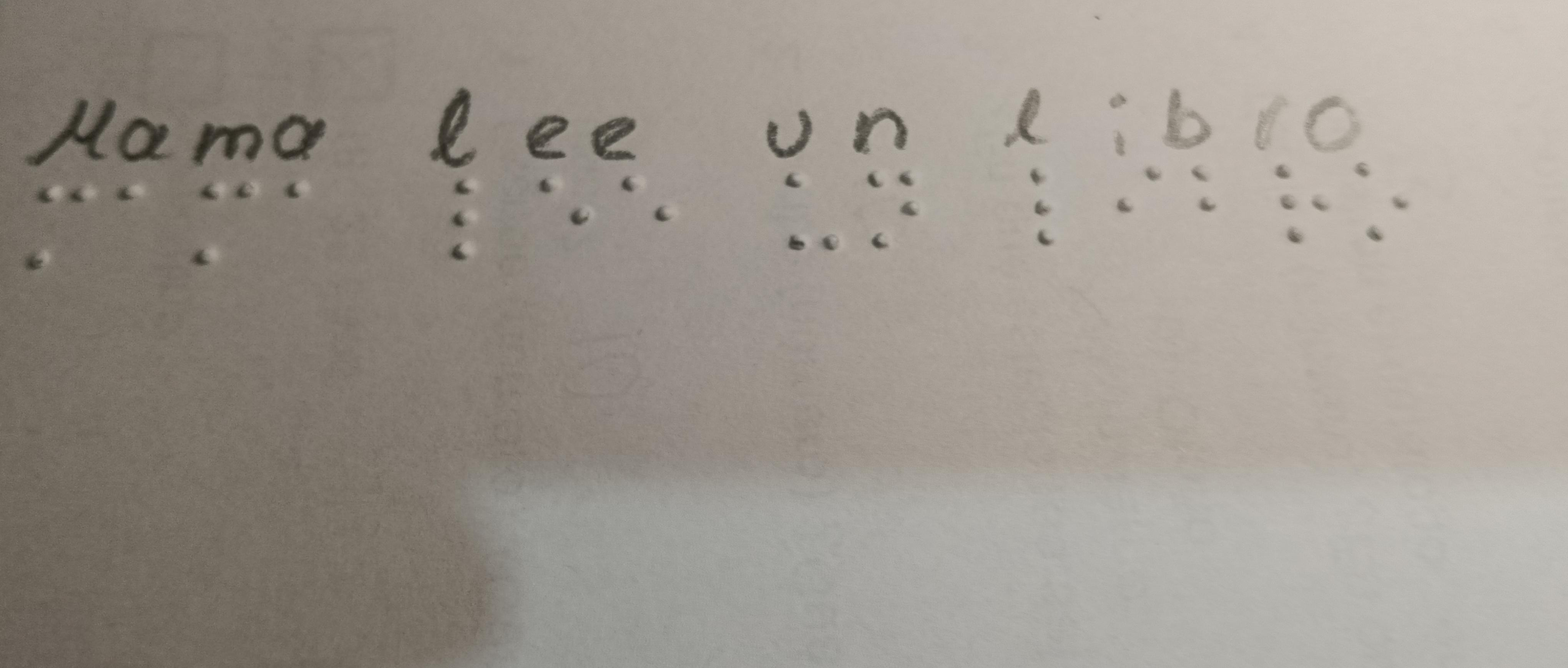a: (110, 167, 167, 219), (275, 169, 334, 217)
b: (1174, 156, 1245, 229)
e: (613, 167, 688, 238), (528, 169, 601, 236)
i: (1095, 159, 1172, 229)
l: (1009, 159, 1072, 261), (442, 169, 486, 286)
m: (183, 171, 273, 273), (27, 167, 100, 277)
n: (847, 167, 930, 254)
o: (1341, 157, 1418, 248)
r: (1264, 154, 1332, 257)
u: (767, 167, 844, 259)
